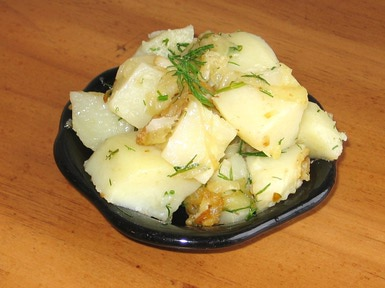boiled potatoes: (81, 30, 326, 209)
